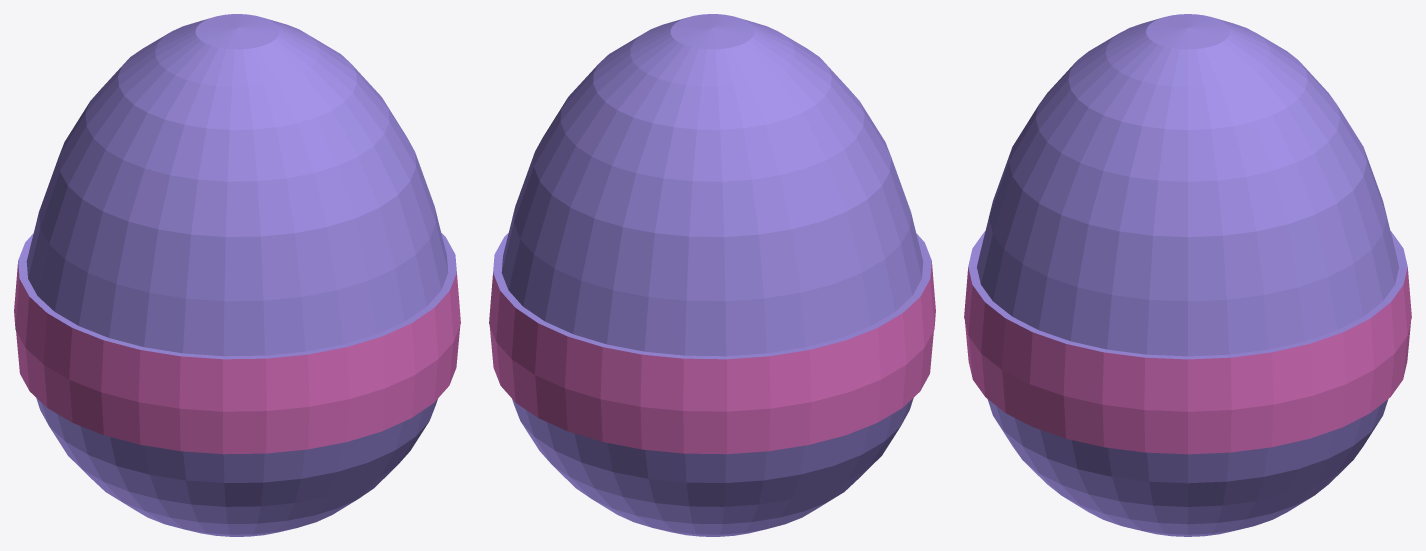
Rendered from easter-egg.glb.
The picture shows the model from 3 angles, left to right: view 1: azimuth 30°, elevation 25°; view 2: azimuth 150°, elevation 25°; view 3: azimuth 270°, elevation 25°; orthographic projection.
Parts seen in each view (by area): view 1: up, down; view 2: up, down; view 3: up, down.
Part boxes in pixels (x1,y1,x2,y2): up: [14, 14, 460, 411]; down: [16, 326, 460, 536]; up: [489, 14, 935, 411]; down: [489, 326, 933, 536]; up: [964, 14, 1411, 411]; down: [965, 322, 1410, 536].
Size of the model in its own units: 1.39 by 1.67 by 1.39.
